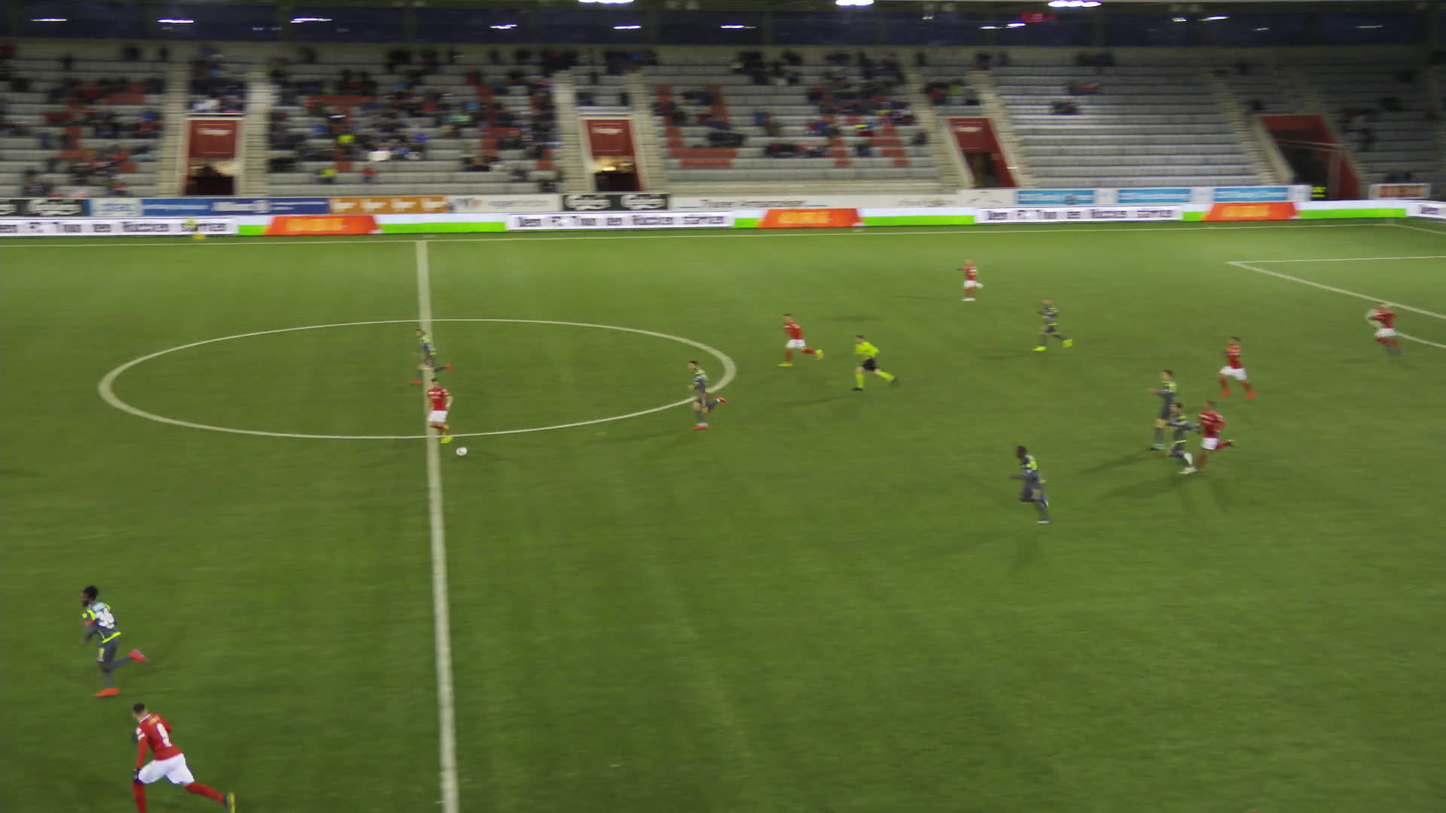ball: (452, 446, 464, 458)
player: (67, 586, 163, 697), (127, 703, 218, 812), (1006, 445, 1054, 525), (1188, 397, 1237, 475), (1142, 367, 1185, 452), (685, 358, 727, 430), (1154, 400, 1193, 477), (413, 376, 455, 445), (1205, 334, 1246, 403), (407, 326, 454, 385), (770, 312, 816, 369), (1017, 296, 1057, 355), (1368, 300, 1403, 355), (942, 257, 978, 302)
referee: (850, 334, 898, 391), (170, 216, 199, 246)
